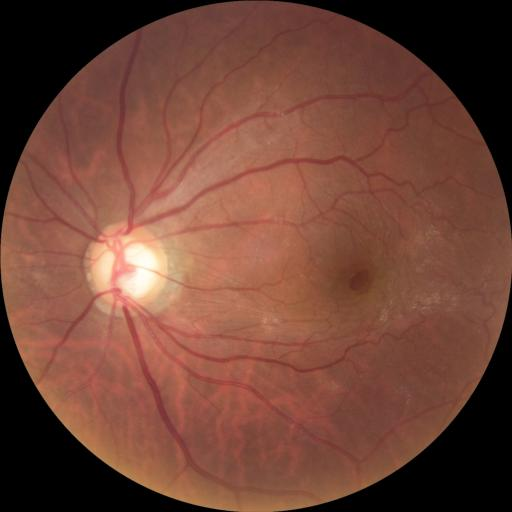Optic Cup: (100, 237, 157, 299)
Optic Disc: (90, 218, 167, 308)
